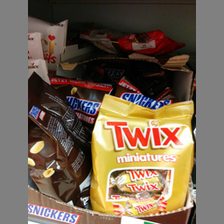chocolate: (92, 93, 196, 216), (28, 71, 92, 209)
